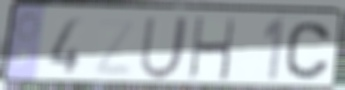1: (259, 16, 286, 84)
4: (46, 15, 84, 77)
C: (283, 19, 333, 82)
H: (187, 15, 238, 83)
U: (137, 14, 192, 82)
Z: (91, 16, 140, 79)
